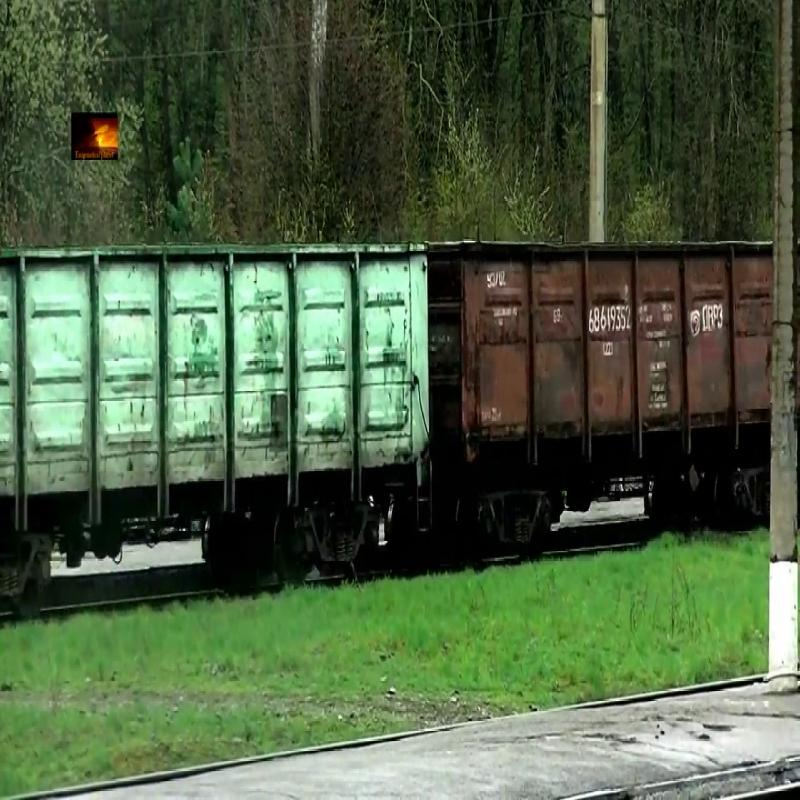train: (1, 241, 431, 530), (430, 245, 776, 476)
